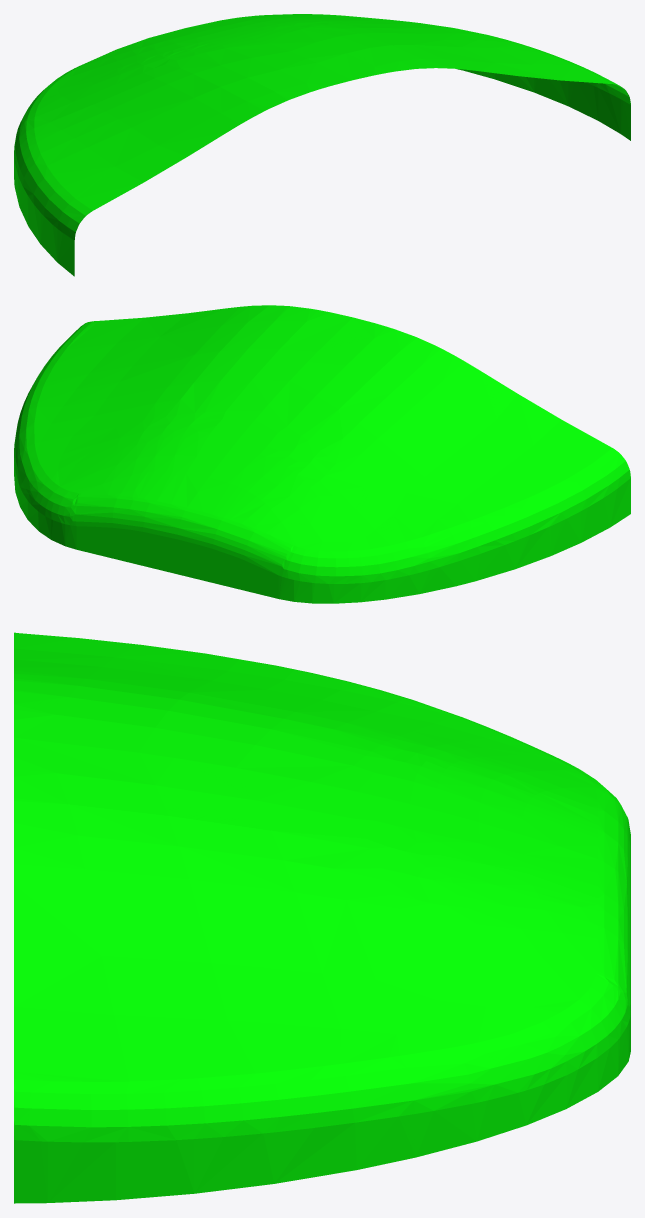
The model's file is TS_F_A_right_pad_7_visuals.obj.
The picture shows the model from 3 angles, top to bottom: view 1: azimuth 30°, elevation 25°; view 2: azimuth 150°, elevation 25°; view 3: azimuth 270°, elevation 25°; orthographic projection. The views are drawn at different scales.
Bounding box in the file's own units: 0.011 × 0.00243 × 0.006.
